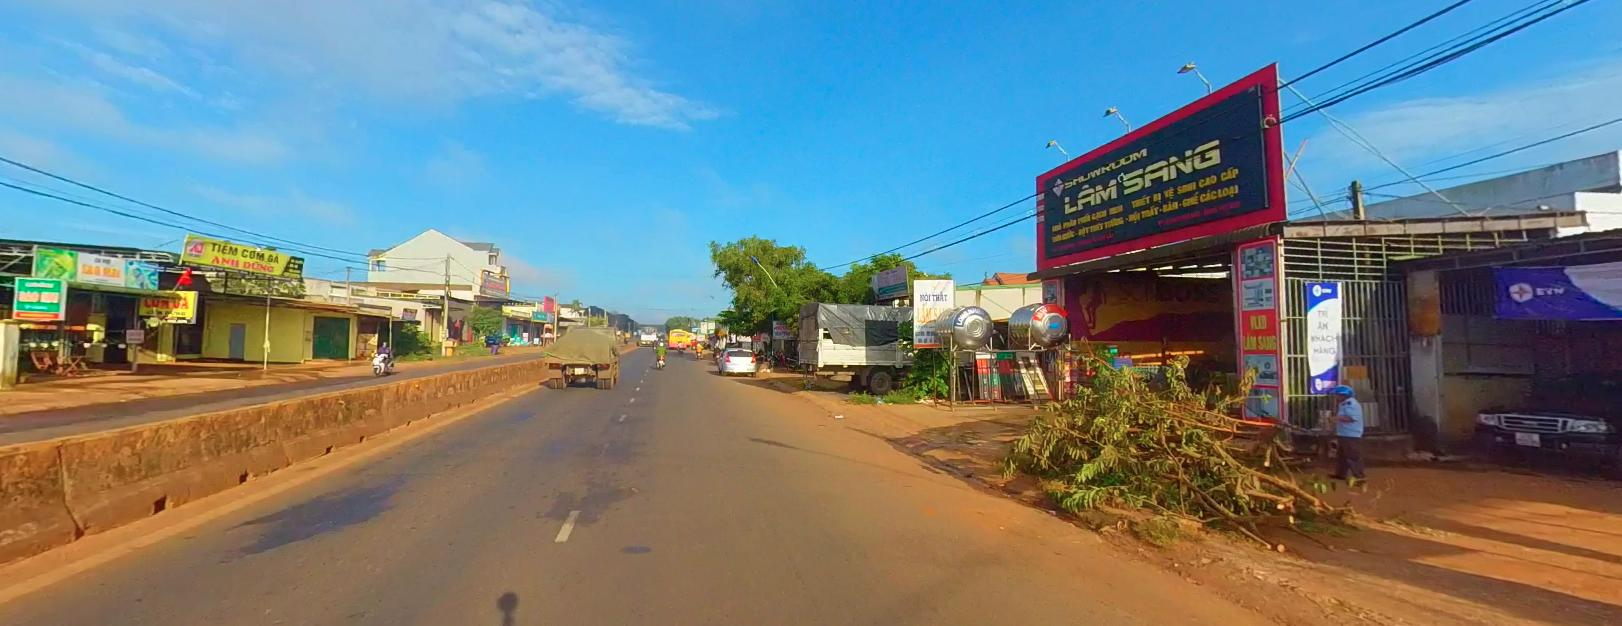Nguy hiem: (716, 328, 723, 334)
